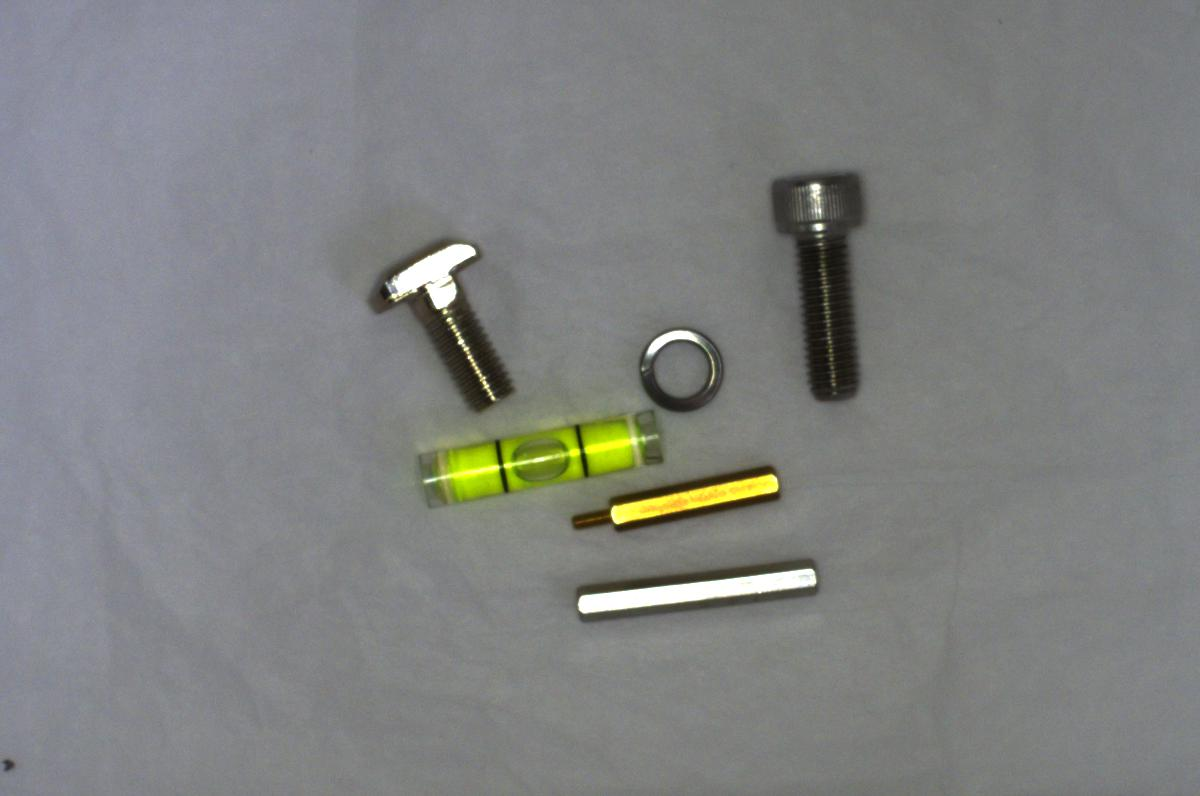Double hexagonal column: (568, 548, 830, 623)
Hexagon pillar: (565, 460, 793, 538)
Hexagon screw: (774, 154, 878, 413)
Horizontal bubble: (406, 407, 671, 499)
Spring washer: (627, 322, 735, 415)
T-shaped screw: (373, 234, 518, 412)
